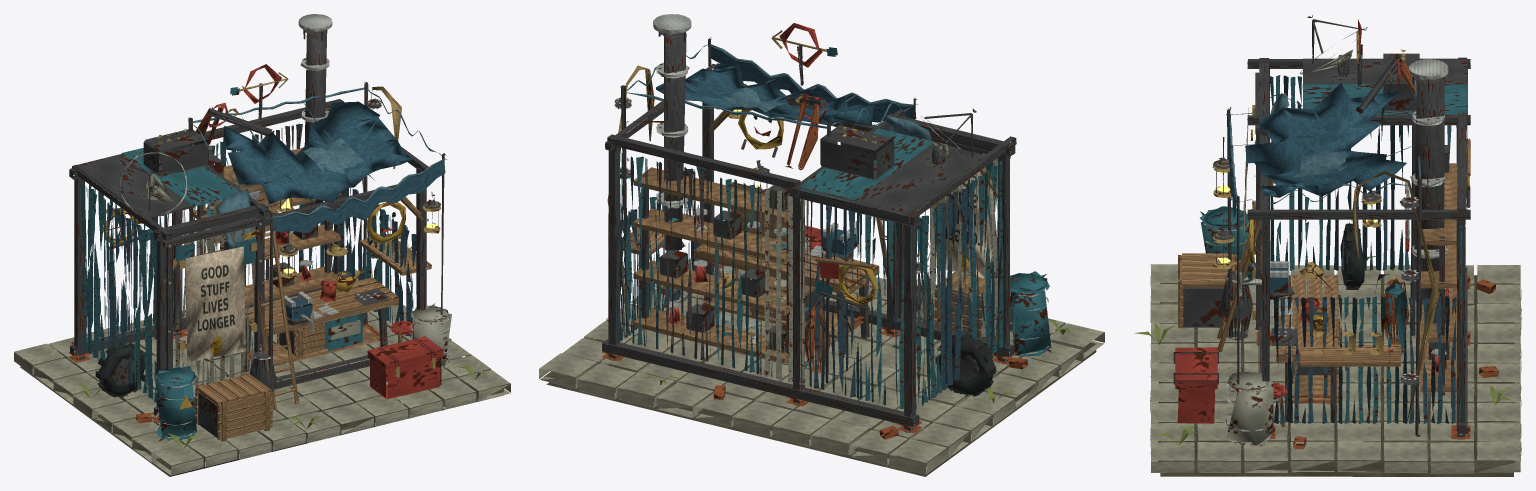
The model's file is improvised-workshop-rts.glb.
3 views of the same model, side by side, from view 1: azimuth 30°, elevation 25°; view 2: azimuth 150°, elevation 25°; view 3: azimuth 270°, elevation 25° (orthographic). The views are drawn at different scales.
Parts seen in each view (by area): view 1: workshop / iron, workshop / stone, workshop / teal, workshop / wood, workshop / tarp, workshop / blue, workshop / workshop-banner, workshop / red, workshop / ivory, workshop / tarp_light, workshop / soil, workshop / steel (+4 smaller); view 2: workshop / iron, workshop / stone, workshop / teal, workshop / wood, workshop / blue, workshop / ivory, workshop / tarp, workshop / soil, workshop / rust, workshop / tarp_light, workshop / steel, workshop / workshop-banner (+4 smaller); view 3: workshop / stone, workshop / iron, workshop / wood, workshop / teal, workshop / tarp, workshop / blue, workshop / soil, workshop / red, workshop / brass, workshop / ivory, workshop / steel, workshop / tarp_light (+4 smaller).
Part boxes in pixels (x1,y1,x2,y2): workshop / iron: (69,26,445,438); workshop / stone: (14,269,510,475); workshop / teal: (78,87,391,440); workshop / wood: (106,147,431,441); workshop / tarp: (222,101,445,233); workshop / blue: (106,188,416,384); workshop / workshop-banner: (185,246,245,362); workshop / red: (137,64,443,399); workshop / ivory: (146,145,451,387); workshop / tarp_light: (191,87,443,249); workshop / soil: (20,311,504,476); workshop / steel: (74,14,450,437); workshop / iron: (602,32,1020,432); workshop / stone: (539,258,1104,474); workshop / teal: (615,47,1051,409); workshop / wood: (623,109,1010,363); workshop / blue: (615,166,972,398); workshop / ivory: (693,140,997,384); workshop / tarp: (656,46,916,126); workshop / soil: (544,293,1096,476); workshop / rust: (601,100,1027,439); workshop / tarp_light: (624,44,931,140); workshop / steel: (615,14,1050,421); workshop / workshop-banner: (929,171,994,279); workshop / stone: (1150,264,1521,473); workshop / iron: (1173,15,1470,439); workshop / wood: (1178,138,1470,427); workshop / teal: (1200,75,1467,423); workshop / tarp: (1227,83,1406,218); workshop / blue: (1270,125,1465,423); workshop / soil: (1158,275,1515,476); workshop / red: (1175,19,1449,423); workshop / brass: (1212,30,1448,420); workshop / ivory: (1225,49,1465,447); workshop / steel: (1202,27,1462,443); workshop / tarp_light: (1229,70,1420,203).
Size of the model in its own units: 5.65 by 4.78 by 4.58.
Materials: 19 (16 with a texture image).
